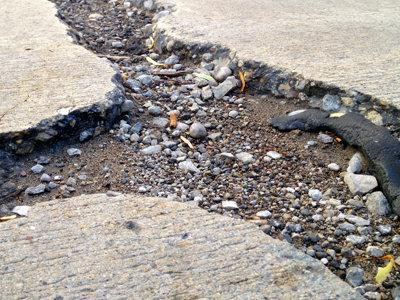potholes: (26, 60, 400, 300)
